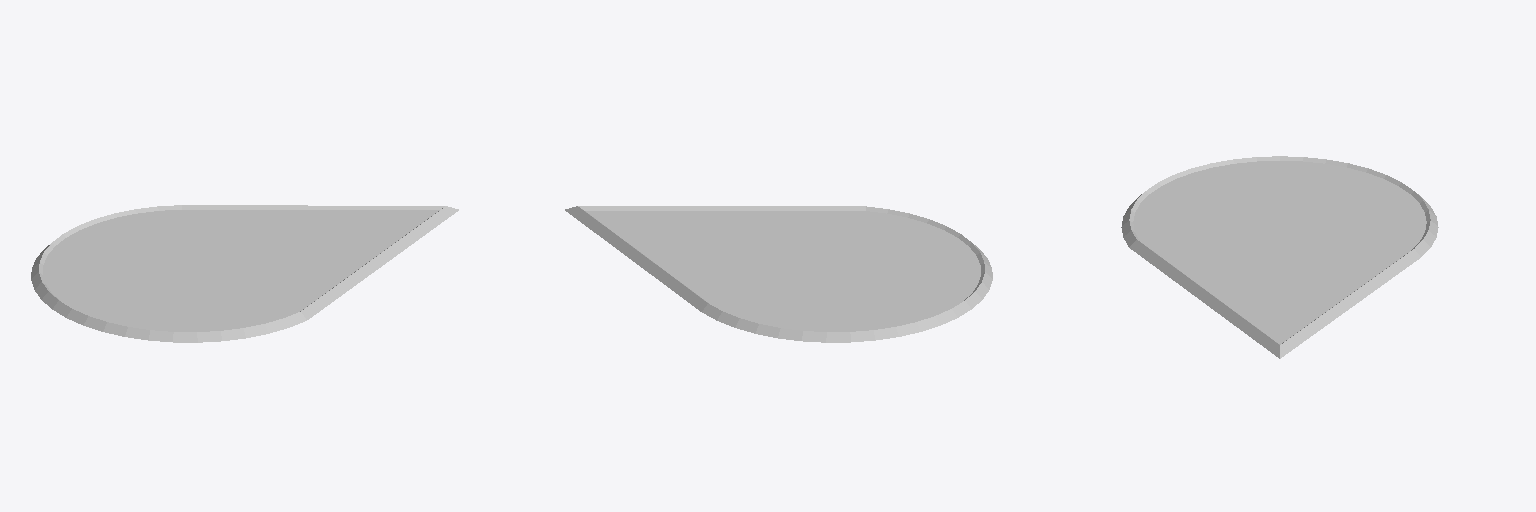
Rendered from Dial.obj.
3 renders of one model, left to right at view 1: azimuth 30°, elevation 25°; view 2: azimuth 150°, elevation 25°; view 3: azimuth 270°, elevation 25°, orthographic.
Visible parts, largest first — view 1: Cube; view 2: Cube; view 3: Cube.
Boxes of the visible parts, <box> form: Cube: <box>31,205,458,342</box>; Cube: <box>565,206,992,342</box>; Cube: <box>1121,156,1438,358</box>.
Size of the model in its own units: 2.97 by 0.05 by 2.